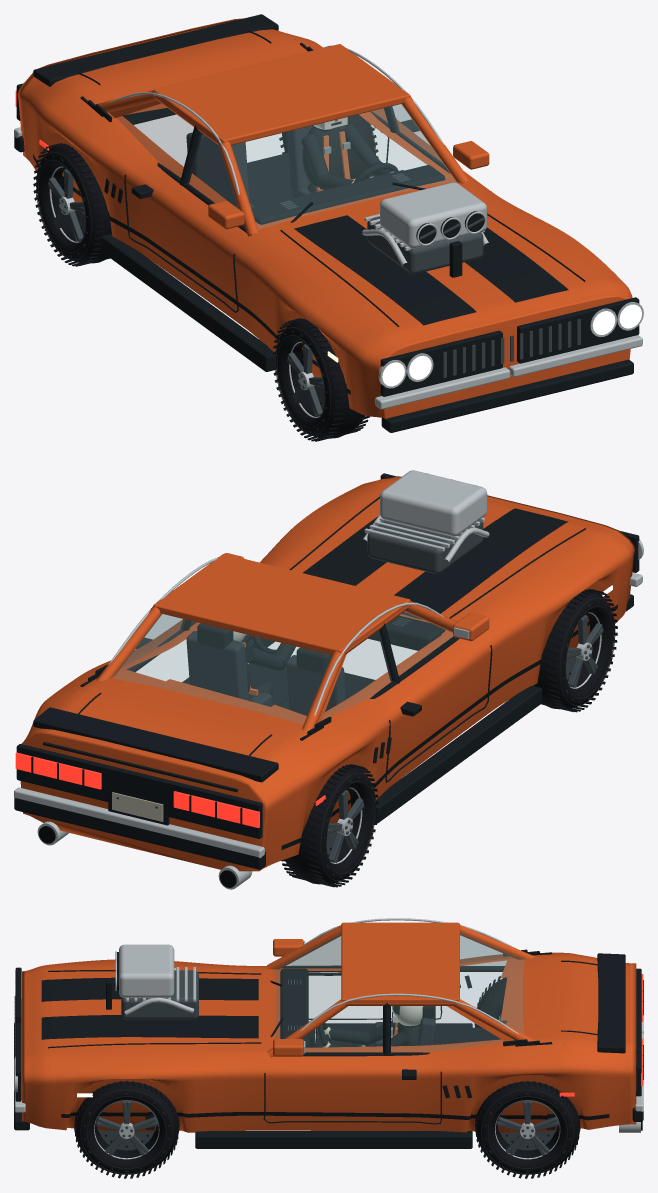
The model's file is banshee_muscle.glb.
3 views of the same model, one above another, from view 1: azimuth 30°, elevation 25°; view 2: azimuth 150°, elevation 25°; view 3: azimuth 270°, elevation 25° (orthographic). The views are drawn at different scales.
Parts seen in each view (by area): view 1: Lacquered body, Carbon and trim (×3), Glass, Tire rubber (×3), Machined aluminum, Dark machined metal (×3), Driver_helmet_and_harness, Cabin fabric, Headlamp lenses, Raised sidewall rubber (×2); view 2: Lacquered body, Carbon and trim (×3), Glass, Machined aluminum, Tire rubber (×2), Dark machined metal (×3), Cabin fabric, Brake lenses, Driver_helmet_and_harness, Raised sidewall rubber (×2), Blank registration plate; view 3: Lacquered body, Carbon and trim (×3), Glass, Tire rubber (×3), Machined aluminum (×3), Dark machined metal (×3), Driver_helmet_and_harness, Raised sidewall rubber (×2), Cabin fabric.
Boxes of the visible parts, x1,y1,x2,y2 form: Lacquered body: (17, 18, 632, 418); Carbon and trim (×3): (14, 14, 639, 432); Glass: (117, 104, 456, 229); Tire rubber (×3): (33, 114, 378, 441); Machined aluminum: (14, 45, 643, 409); Dark machined metal (×3): (47, 166, 580, 417); Driver_helmet_and_harness: (301, 117, 391, 192); Cabin fabric: (186, 125, 345, 208); Headlamp lenses: (327, 304, 641, 386); Raised sidewall rubber (×2): (36, 152, 330, 435); Lacquered body: (20, 476, 635, 871); Carbon and trim (×3): (14, 473, 639, 869); Glass: (112, 607, 453, 724); Machined aluminum: (14, 470, 643, 889); Tire rubber (×2): (281, 589, 617, 887); Dark machined metal (×3): (116, 520, 603, 863); Cabin fabric: (186, 631, 346, 715); Brake lenses: (15, 752, 325, 827); Driver_helmet_and_harness: (233, 631, 295, 701); Raised sidewall rubber (×2): (320, 597, 615, 881); Blank registration plate: (112, 792, 163, 821); Lacquered body: (22, 922, 636, 1132); Carbon and trim (×3): (14, 949, 643, 1148); Glass: (274, 932, 524, 1052); Tire rubber (×3): (74, 976, 580, 1178); Machined aluminum (×3): (14, 918, 643, 1159); Dark machined metal (×3): (14, 970, 643, 1155); Driver_helmet_and_harness: (322, 1006, 423, 1047); Raised sidewall rubber (×2): (80, 1089, 573, 1173); Cabin fabric: (374, 1017, 435, 1046).
Size of the model in its own units: 2.27 by 1.48 by 5.11.
